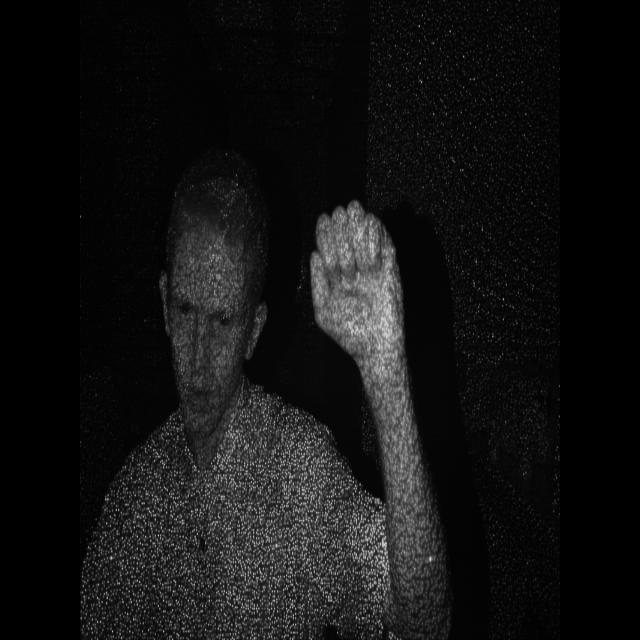M: (301, 192, 411, 369)
